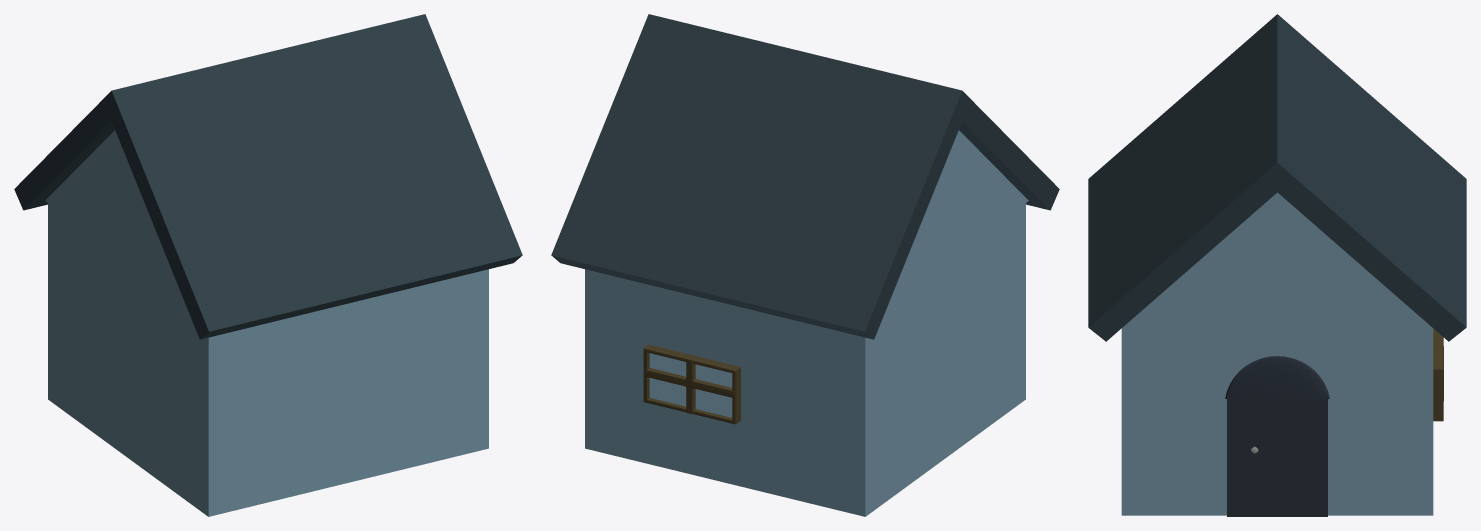
The model's file is house.fbx.
3 renders of one model, left to right at view 1: azimuth 30°, elevation 25°; view 2: azimuth 150°, elevation 25°; view 3: azimuth 270°, elevation 25°, orthographic. The views are drawn at different scales.
Visible parts, largest first — view 1: pPrism1, pCube17, pPrism2; view 2: pPrism1, pCube17, pPrism2, pCube18, house:Frame, house:the___in_the_window; view 3: pPrism1, pCube17, pPrism2, pSphere2, house:Frame.
Boxes of the visible parts, left/top/right/bottom form: pPrism1: left=14, top=14, right=522, bottom=339; pCube17: left=48, top=203, right=488, bottom=516; pPrism2: left=45, top=130, right=184, bottom=302; pPrism1: left=551, top=14, right=1059, bottom=339; pCube17: left=585, top=203, right=1025, bottom=516; pPrism2: left=889, top=130, right=1028, bottom=302; pCube18: left=649, top=353, right=732, bottom=417; house:Frame: left=643, top=344, right=740, bottom=424; house:the___in_the_window: left=644, top=359, right=734, bottom=414; pPrism1: left=1088, top=14, right=1466, bottom=341; pCube17: left=1121, top=324, right=1433, bottom=515; pPrism2: left=1126, top=192, right=1428, bottom=324; pSphere2: left=1225, top=356, right=1329, bottom=516; house:Frame: left=1433, top=328, right=1443, bottom=421.
Bounding box in the file's own units: 30.98 × 35.08 × 33.32.
